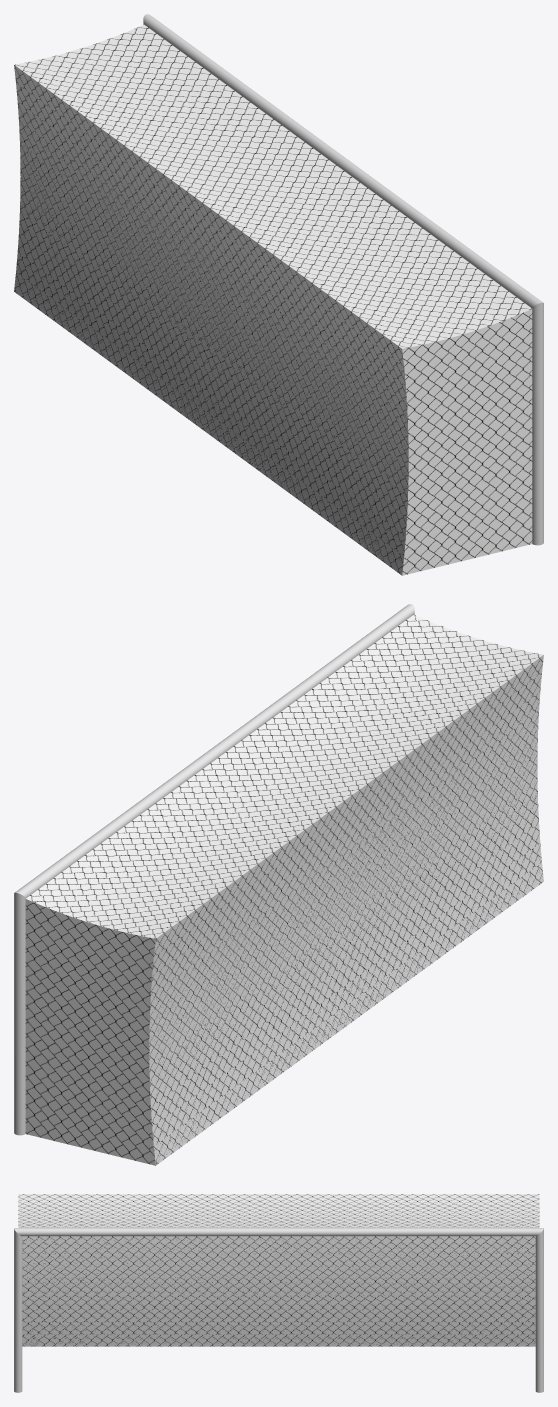
File: goal.fbx
3 views of the same model, one above another, from view 1: azimuth 30°, elevation 25°; view 2: azimuth 150°, elevation 25°; view 3: azimuth 270°, elevation 25° (orthographic). The views are drawn at different scales.
Visible parts, largest first — view 1: NetzSides, NetzTop, Goal; view 2: NetzSides, NetzTop, Goal; view 3: NetzSides, NetzTop, Goal.
Part boxes in pixels (x1,y1,x2,y2): NetzSides: [14, 65, 532, 575]; NetzTop: [14, 25, 531, 348]; Goal: [143, 14, 543, 545]; NetzSides: [25, 655, 543, 1165]; NetzTop: [26, 615, 543, 938]; Goal: [14, 604, 414, 1135]; NetzSides: [22, 1236, 535, 1346]; NetzTop: [18, 1194, 539, 1227]; Goal: [14, 1228, 543, 1392].
Size of the model in its own units: 156 by 256 by 756.
2 materials, 2 textured.
